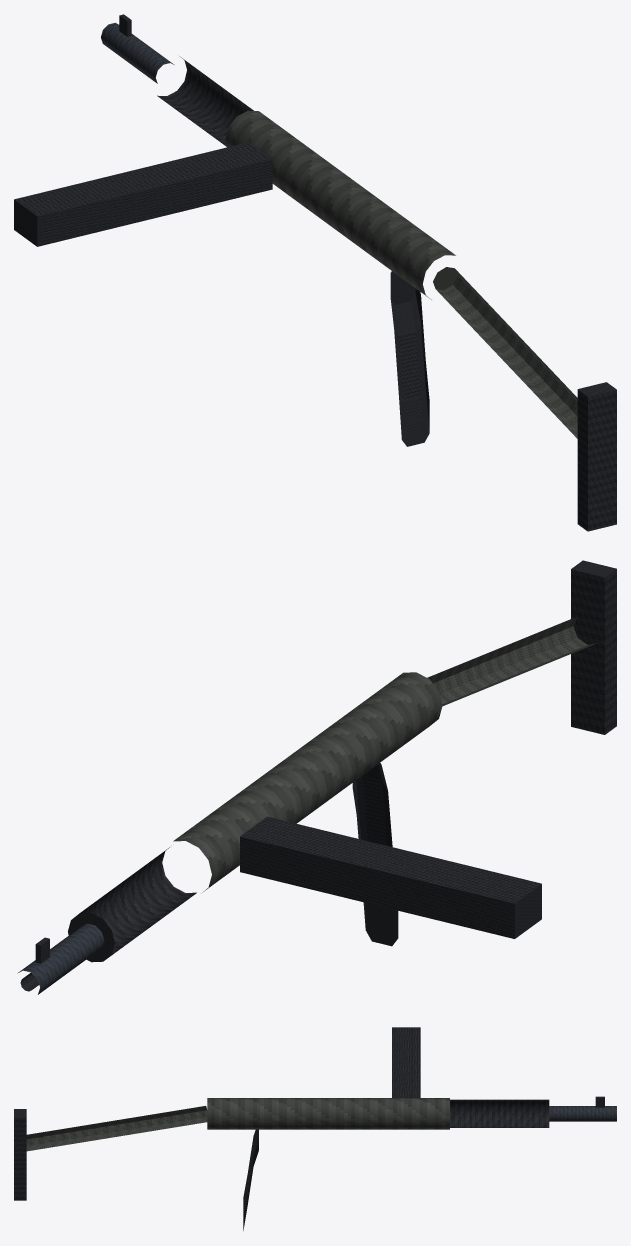
The model's file is sten_mk2.glb.
The picture shows the model from 3 angles, top to bottom: view 1: azimuth 30°, elevation 25°; view 2: azimuth 150°, elevation 25°; view 3: azimuth 270°, elevation 25°; orthographic projection. The views are drawn at different scales.
Visible parts, largest first — view 1: WeaponMesh; view 2: WeaponMesh; view 3: WeaponMesh.
Boxes of the visible parts, bbox=[...] form: WeaponMesh: bbox=[14, 14, 616, 531]; WeaponMesh: bbox=[17, 560, 616, 994]; WeaponMesh: bbox=[14, 1027, 616, 1230].
Bounding box in the file's own units: 0.25 × 0.183 × 0.758.
Materials: 3 (3 with a texture image).
